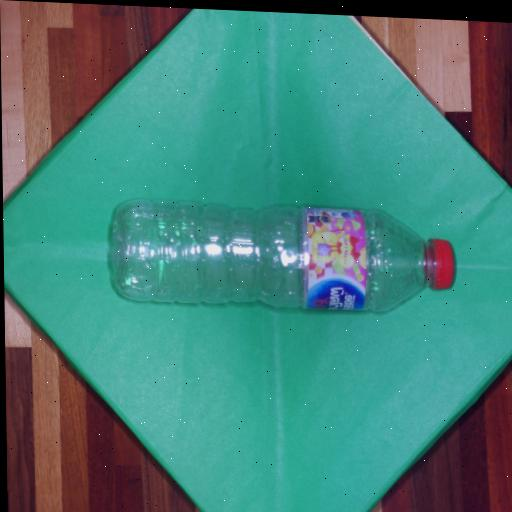bottle: (113, 201, 453, 311)
